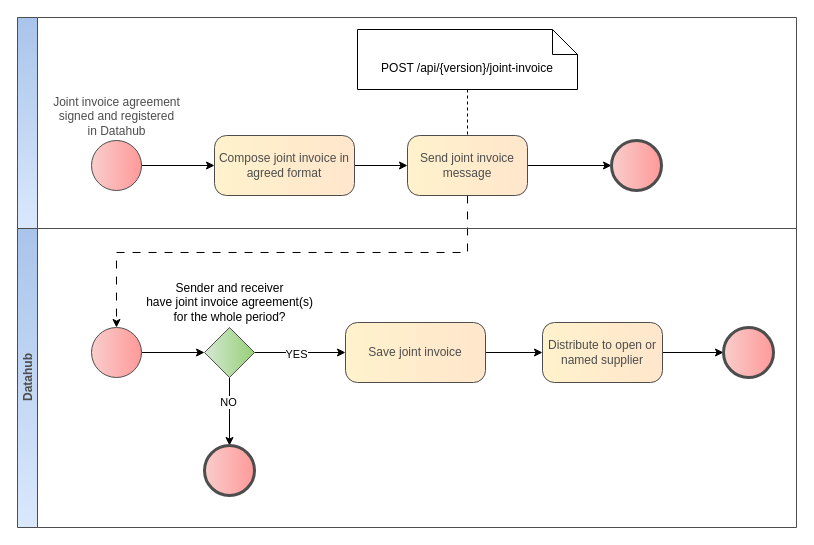
Image size: 814x545. Some labels were removed from this diagram. The centre of each missing label's shape, as x and y in pixels:
"Error" belongs at point 229,470.
"Grid operator" belongs at point 406,122.
